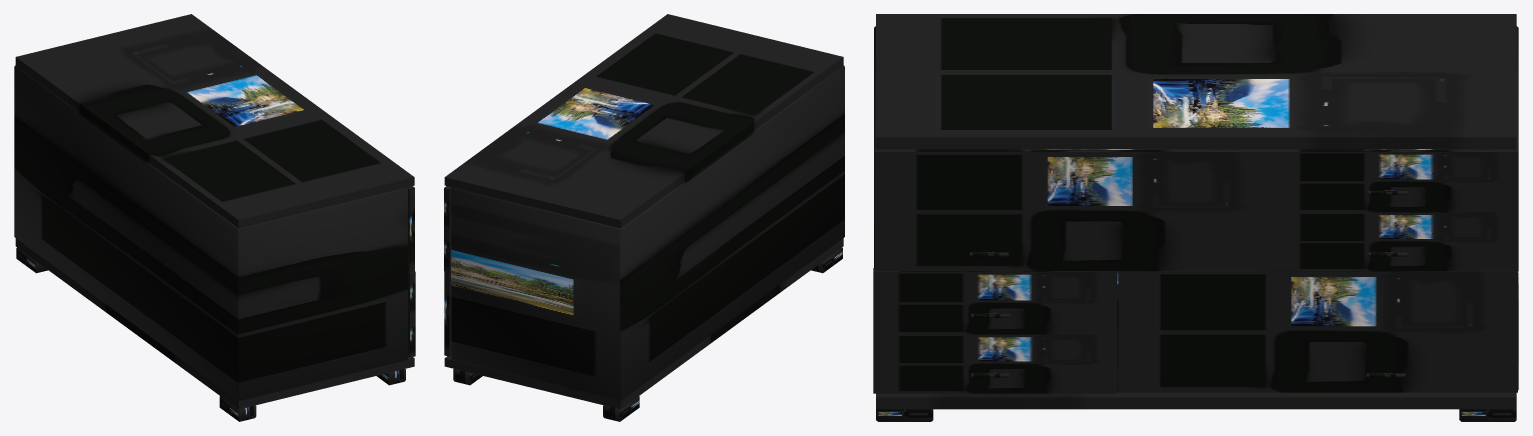
File: drawer6.FBX
3 views of the same model, side by side, from view 1: azimuth 30°, elevation 25°; view 2: azimuth 150°, elevation 25°; view 3: azimuth 270°, elevation 25° (orthographic). The views are drawn at different scales.
Visible parts, largest first — view 1: ChamferBox005; view 2: ChamferBox005; view 3: ChamferBox005.
Boxes of the visible parts, x1,y1,x2,y2 form: ChamferBox005: (14, 14, 415, 421); ChamferBox005: (444, 14, 844, 421); ChamferBox005: (873, 14, 1518, 421).
Bounding box in the file's own units: 1.41 × 1.52 × 3.05.
